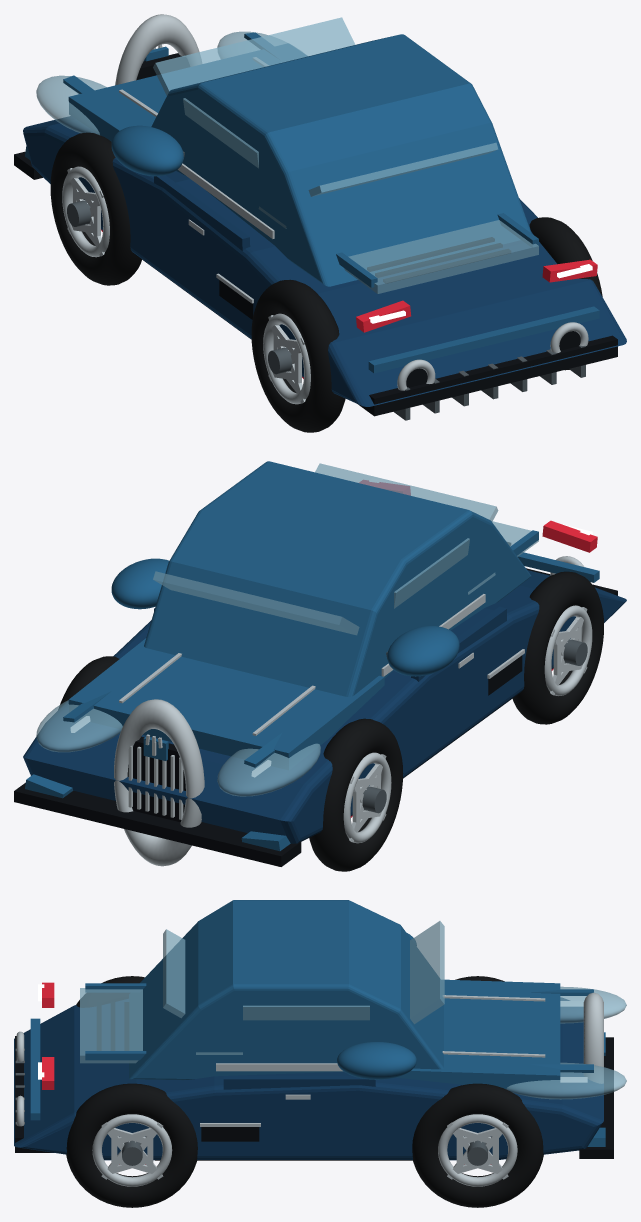
Rendered from maserati-gt-concept-procedural.glb.
3 renders of one model, top to bottom at view 1: azimuth 30°, elevation 25°; view 2: azimuth 150°, elevation 25°; view 3: azimuth 270°, elevation 25°, orthographic. The views are drawn at different scales.
Visible parts, largest first — view 1: maserati_cabin_upper_profile, maserati_main_body_profile, maserati_wheel_rl_tire, maserati_rear_engine_glass, maserati_wheel_fl_tire, maserati_hood_panel, maserati_windshield_glass, maserati_rear_diffuser_panel, maserati_rear_bumper_line, maserati_mirror_cap_left, maserati_oval_grille_surround, maserati_engine_cover (+18 smaller); view 2: maserati_cabin_upper_profile, maserati_main_body_profile, maserati_hood_panel, maserati_wheel_fl_tire, maserati_wheel_rl_tire, maserati_oval_grille_surround, maserati_front_lip, maserati_headlamp_lens_left, maserati_windshield_glass, maserati_headlamp_lens_right, maserati_mirror_cap_left, maserati_mirror_cap_right (+15 smaller); view 3: maserati_cabin_upper_profile, maserati_main_body_profile, maserati_hood_panel, maserati_wheel_rr_tire, maserati_wheel_fr_tire, maserati_rear_engine_glass, maserati_cabin, maserati_windshield_glass, maserati_headlamp_lens_right, maserati_mirror_cap_right, maserati_wheel_rr_rim, maserati_wheel_fr_rim (+15 smaller).
Boxes of the visible parts, <box> form: maserati_cabin_upper_profile: <box>151,34,531,286</box>; maserati_main_body_profile: <box>23,116,626,406</box>; maserati_wheel_rl_tire: <box>251,279,345,432</box>; maserati_rear_engine_glass: <box>344,220,538,293</box>; maserati_wheel_fl_tire: <box>50,132,141,285</box>; maserati_hood_panel: <box>68,43,307,141</box>; maserati_windshield_glass: <box>153,17,355,95</box>; maserati_rear_diffuser_panel: <box>358,335,617,416</box>; maserati_rear_bumper_line: <box>368,306,599,373</box>; maserati_mirror_cap_left: <box>111,125,183,176</box>; maserati_oval_grille_surround: <box>115,14,201,85</box>; maserati_engine_cover: <box>367,213,538,283</box>; maserati_cabin_upper_profile: <box>144,461,531,696</box>; maserati_main_body_profile: <box>23,570,626,843</box>; maserati_hood_panel: <box>68,638,384,769</box>; maserati_wheel_fl_tire: <box>309,718,403,871</box>; maserati_wheel_rl_tire: <box>512,571,603,724</box>; maserati_oval_grille_surround: <box>114,699,204,866</box>; maserati_front_lip: <box>14,783,301,866</box>; maserati_headlamp_lens_left: <box>217,743,320,796</box>; maserati_windshield_glass: <box>153,571,359,635</box>; maserati_headlamp_lens_right: <box>36,700,122,752</box>; maserati_mirror_cap_left: <box>387,626,459,676</box>; maserati_mirror_cap_right: <box>111,558,168,609</box>; maserati_cabin_upper_profile: <box>129,900,443,1080</box>; maserati_main_body_profile: <box>14,997,603,1160</box>; maserati_hood_panel: <box>396,979,560,1090</box>; maserati_wheel_rr_tire: <box>66,1083,197,1207</box>; maserati_wheel_fr_tire: <box>412,1083,543,1207</box>; maserati_rear_engine_glass: <box>80,988,142,1063</box>; maserati_cabin: <box>196,1005,369,1071</box>; maserati_windshield_glass: <box>410,921,444,1024</box>; maserati_headlamp_lens_right: <box>505,1062,626,1099</box>; maserati_mirror_cap_right: <box>337,1042,416,1079</box>; maserati_wheel_rr_rim: <box>92,1114,172,1186</box>; maserati_wheel_fr_rim: <box>438,1114,517,1186</box>.
Size of the model in its own units: 2.38 by 1.68 by 4.44.
